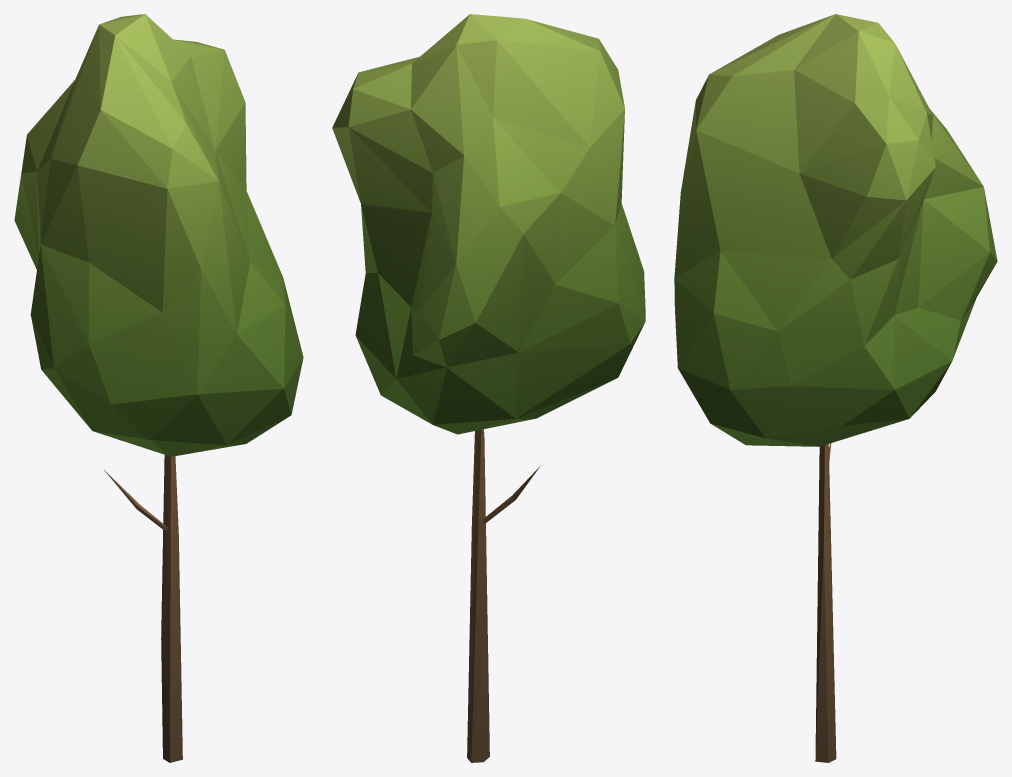
Rendered from Summer_Tree_09.glb.
The picture shows the model from 3 angles, left to right: view 1: azimuth 30°, elevation 25°; view 2: azimuth 150°, elevation 25°; view 3: azimuth 270°, elevation 25°; orthographic projection. The views are drawn at different scales.
Visible parts, largest first — view 1: Summer_Tree_09_LOD0; view 2: Summer_Tree_09_LOD0; view 3: Summer_Tree_09_LOD0.
Boxes of the visible parts, x1,y1,x2,y2 form: Summer_Tree_09_LOD0: (14, 14, 303, 762); Summer_Tree_09_LOD0: (332, 14, 645, 762); Summer_Tree_09_LOD0: (674, 14, 997, 762).
Size of what is drawn, in the model's own units: 1.2 by 3.53 by 1.43.
Materials: 1 (1 with a texture image).
